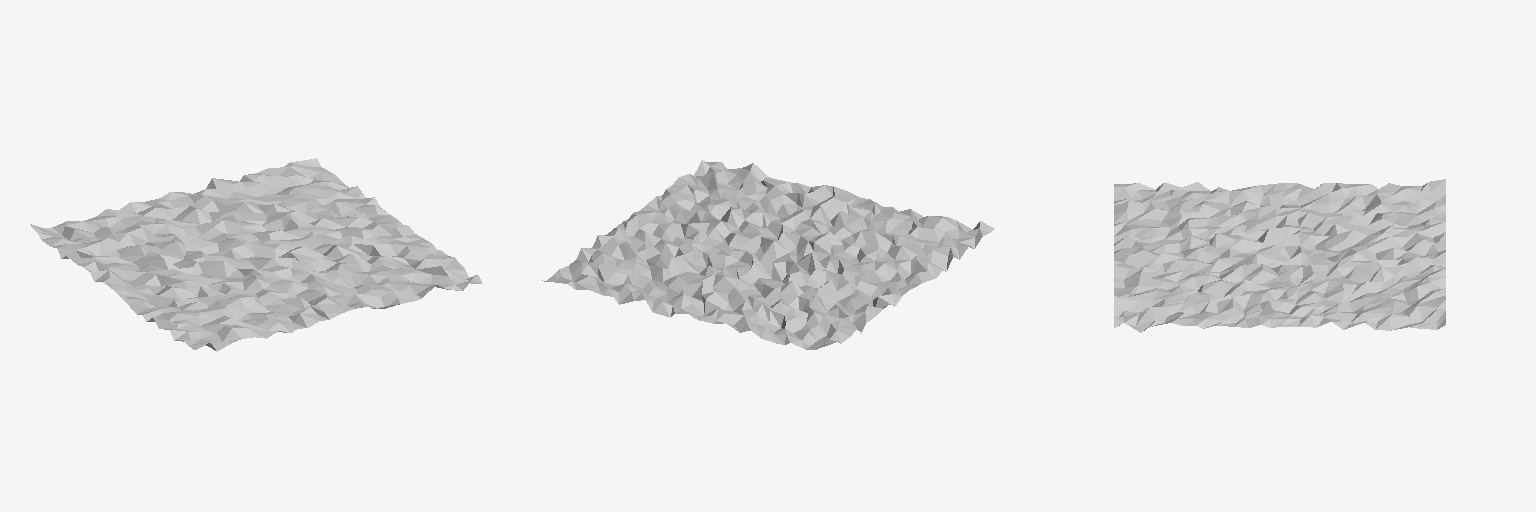
File: water.obj
3 renders of one model, left to right at view 1: azimuth 30°, elevation 25°; view 2: azimuth 150°, elevation 25°; view 3: azimuth 270°, elevation 25°, orthographic.
Size of the model in its own units: 1 by 0.0579 by 1.